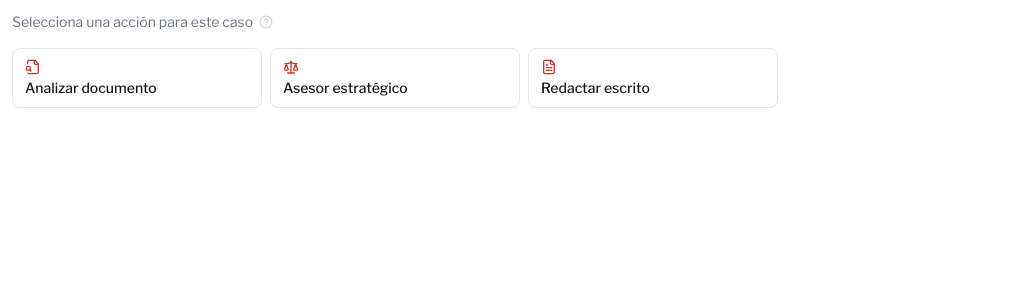
Test: LegalAgentPanel › muestra resultado al hacer click en Asesor
Click the button "Asesor estratégico" at (395, 78), box [270,48,520,108]
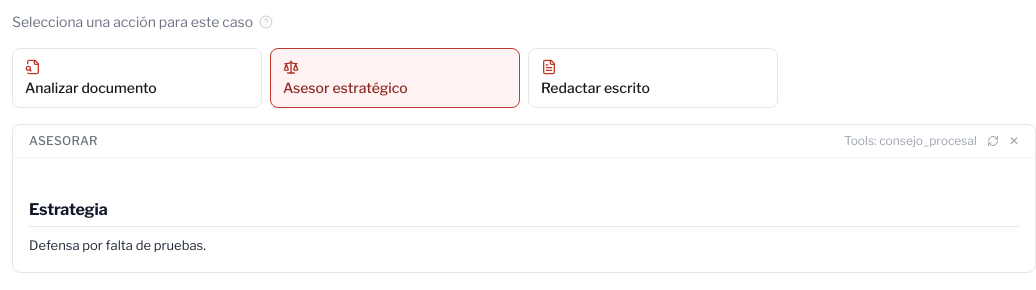
Check: the heading "Estrategia" is shown, box [29,198,1019,226]
